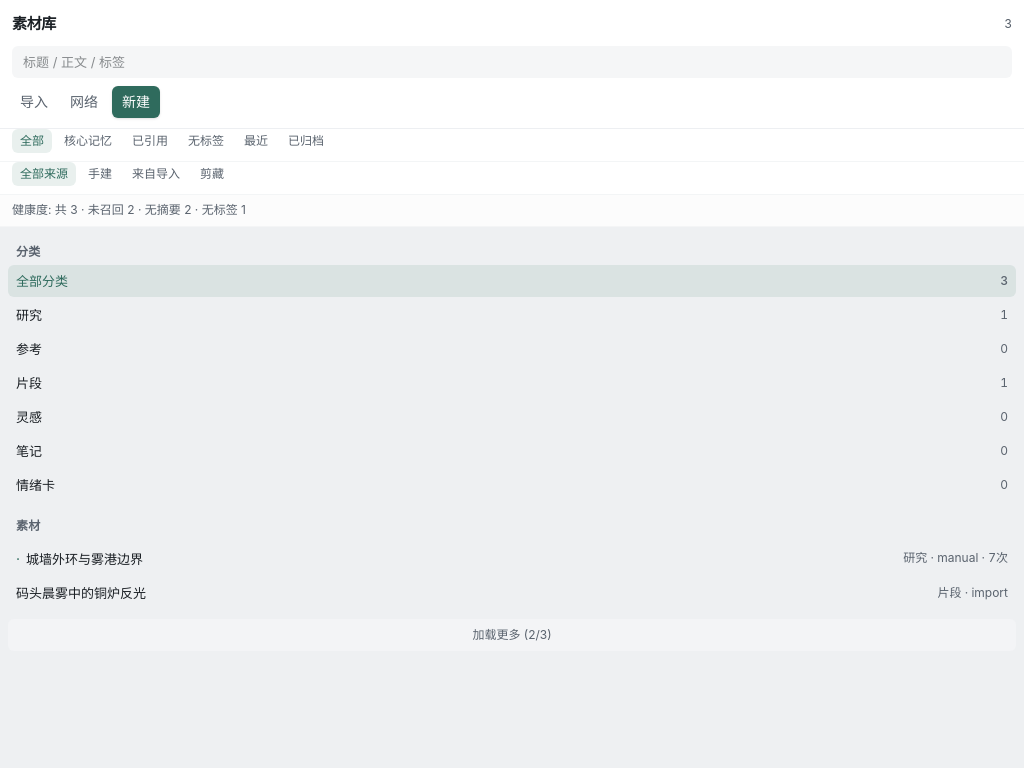
MaterialList 素材库工作台 › 素材目录按页加载,点击加载更多追加下一页
Expected: the text "城墙外环与雾港边界" is shown, [26,549,143,569]
Expected: the text "无标签待整理素材" is not shown
Click the button "加载更多 (2/3)" at (512, 636), box [8,620,1016,652]
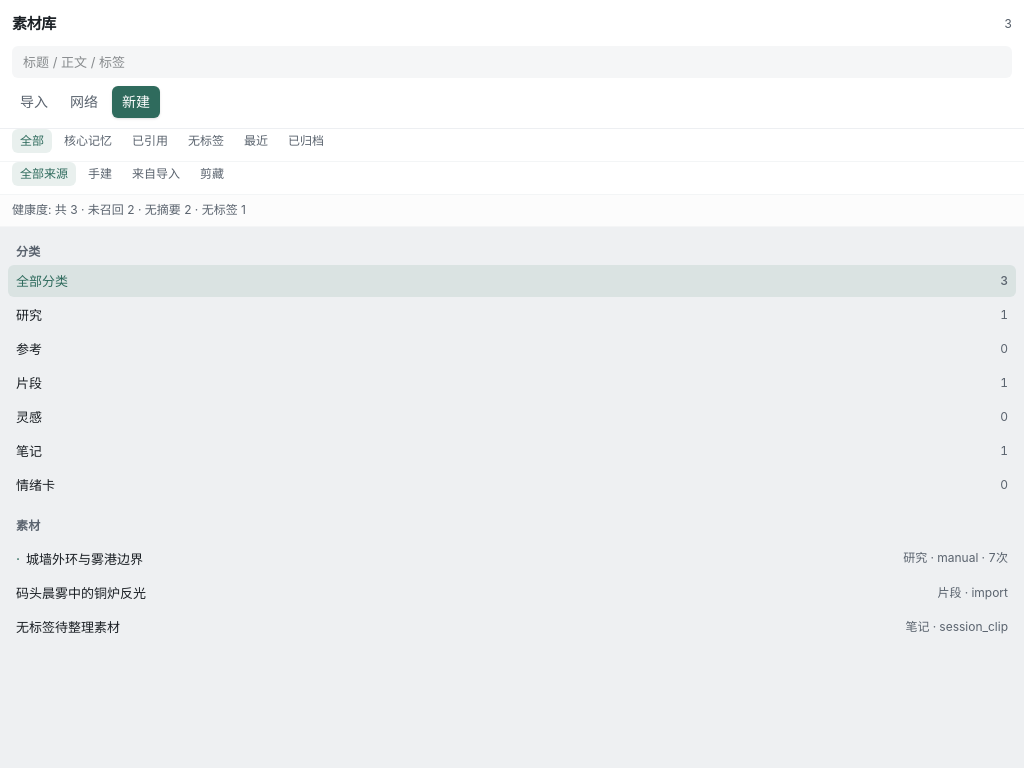
Expected: the text "无标签待整理素材" is shown, [16,618,120,638]
